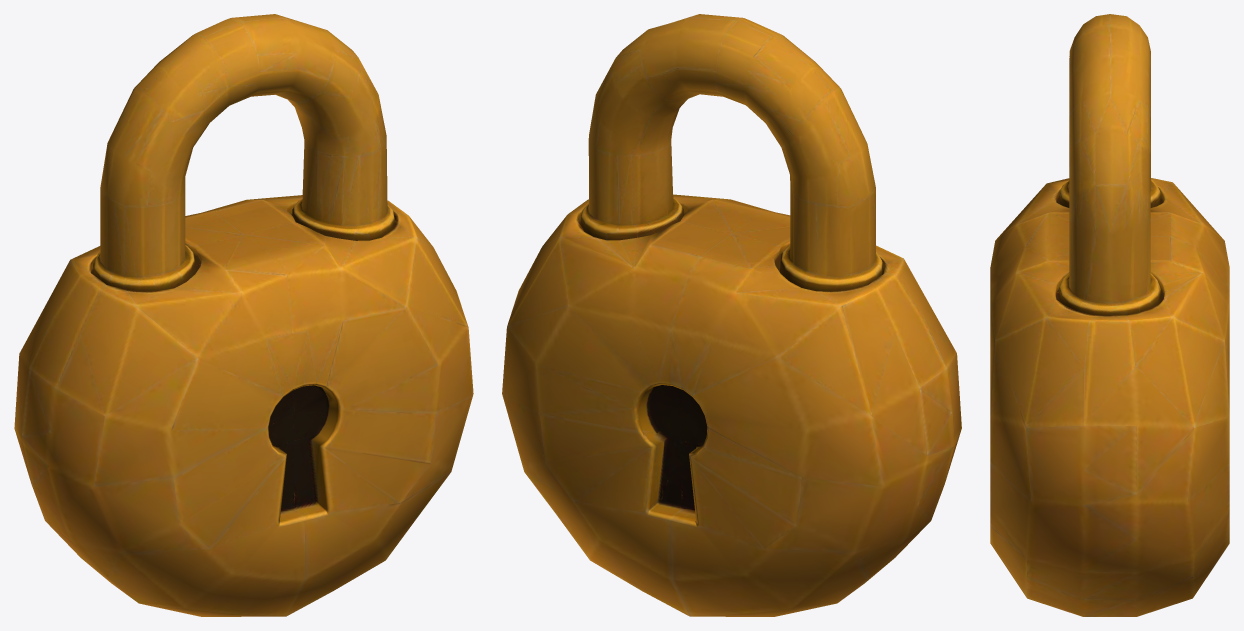
The model's file is lock_07.glb.
3 renders of one model, left to right at view 1: azimuth 30°, elevation 25°; view 2: azimuth 150°, elevation 25°; view 3: azimuth 270°, elevation 25°, orthographic.
Visible parts, largest first — view 1: geometry_0; view 2: geometry_0; view 3: geometry_0.
Part boxes in pixels (x1,y1,x2,y2): geometry_0: (14, 14, 473, 616); geometry_0: (502, 14, 961, 616); geometry_0: (990, 14, 1229, 616).
Size of the model in its own units: 0.7105 by 0.9517 by 0.3589.
Materials: 1 (1 with a texture image).
